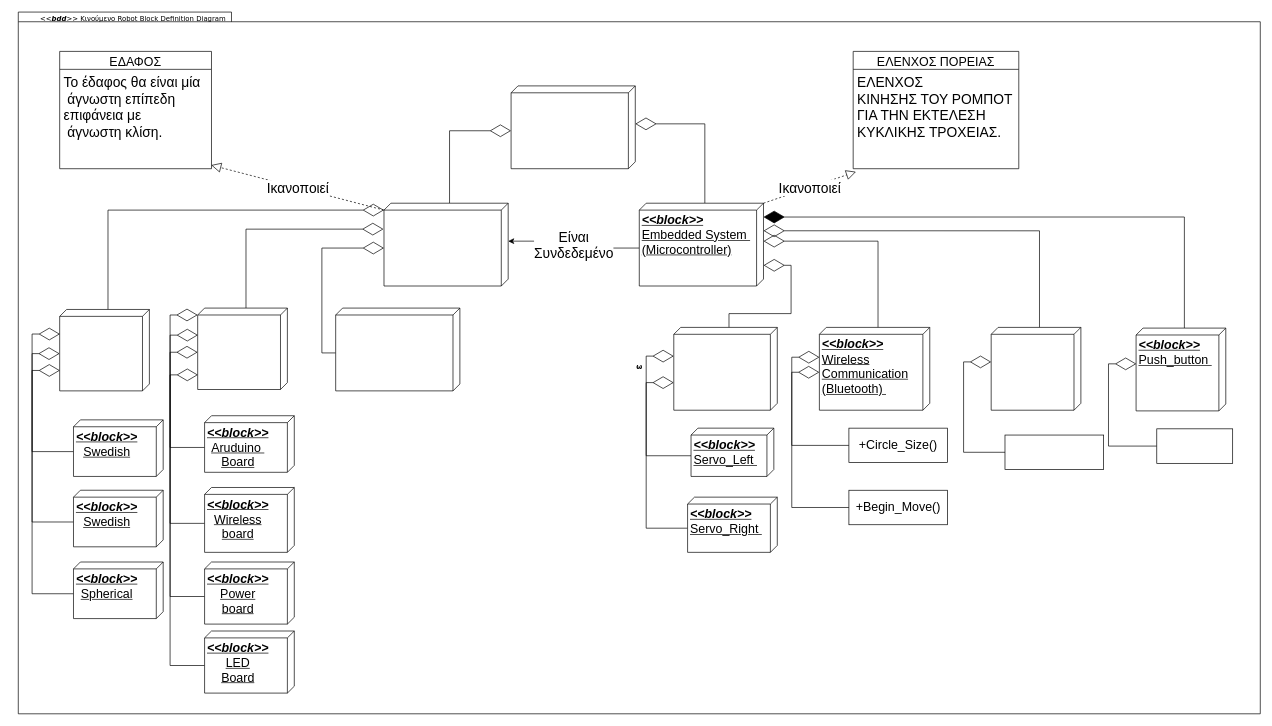
Some shapes in this 1272 by 726 pixel diagram are drawn without their labels. The centre of each missing label's shape, as x and y in pixels:
"+Μove()" belongs at (1054,452).
"<<block>> Breaboard" belongs at (242,348).
"<<block>> Software (Κώδικας)" belongs at (1035,368).
"<<block>> Wheels" belongs at (104,350).
"<<block>> Κινούμενο Ρομπότ" belongs at (572,127).
"<<block>> Πλαίσιο" belongs at (445,244).
"<<block>> Σερβοκινητήρες" belongs at (725,368).
"<<block>> Σώμα (Κύριο Πλαίσιο)" belongs at (397,349).
"Robot On\Off" belongs at (1194,445).
